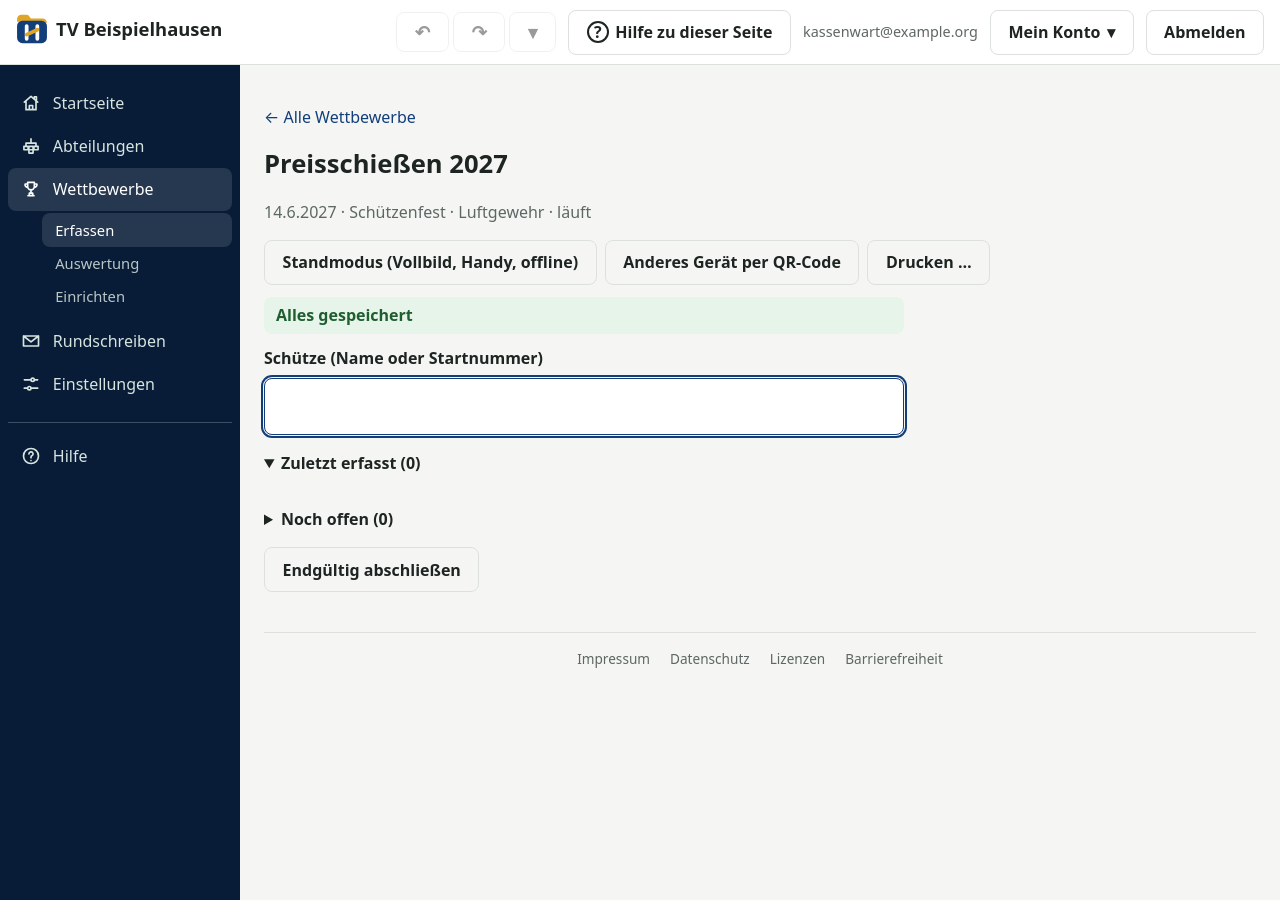
Scenario: Wettbewerbe erfassen › schließt endgültig ab, wenn alles abgeglichen ist
This screenshot has width=1280, height=900.
What coordinates should you click on to do the following:
click the button "Endgültig abschließen"
I would click on:
 (372, 570)
Its box is x1=264 y1=547 x2=480 y2=592.
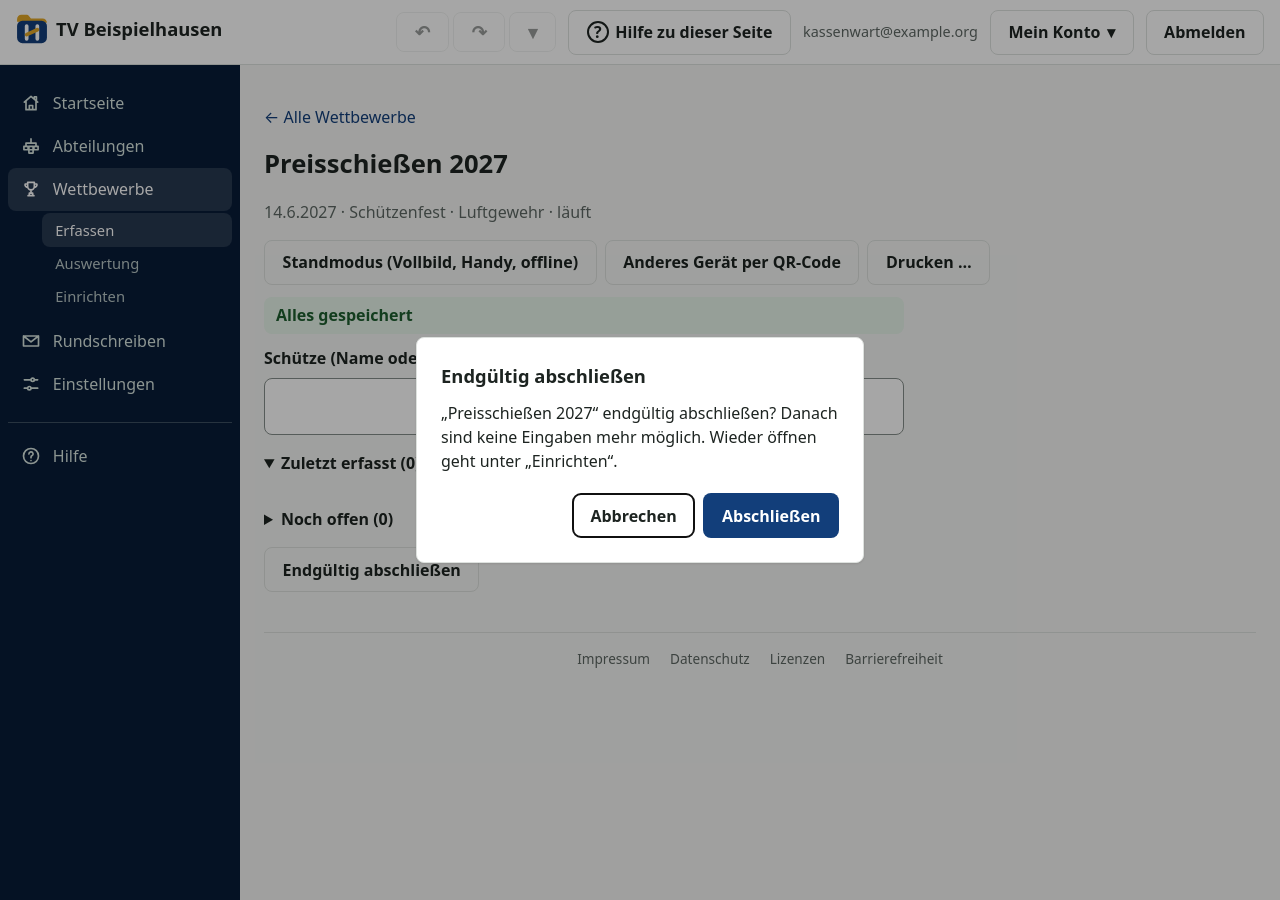
What coordinates should you click on to do the following:
click the button "Abschließen"
I would click on:
 (771, 516)
Its box is x1=703 y1=493 x2=839 y2=538.
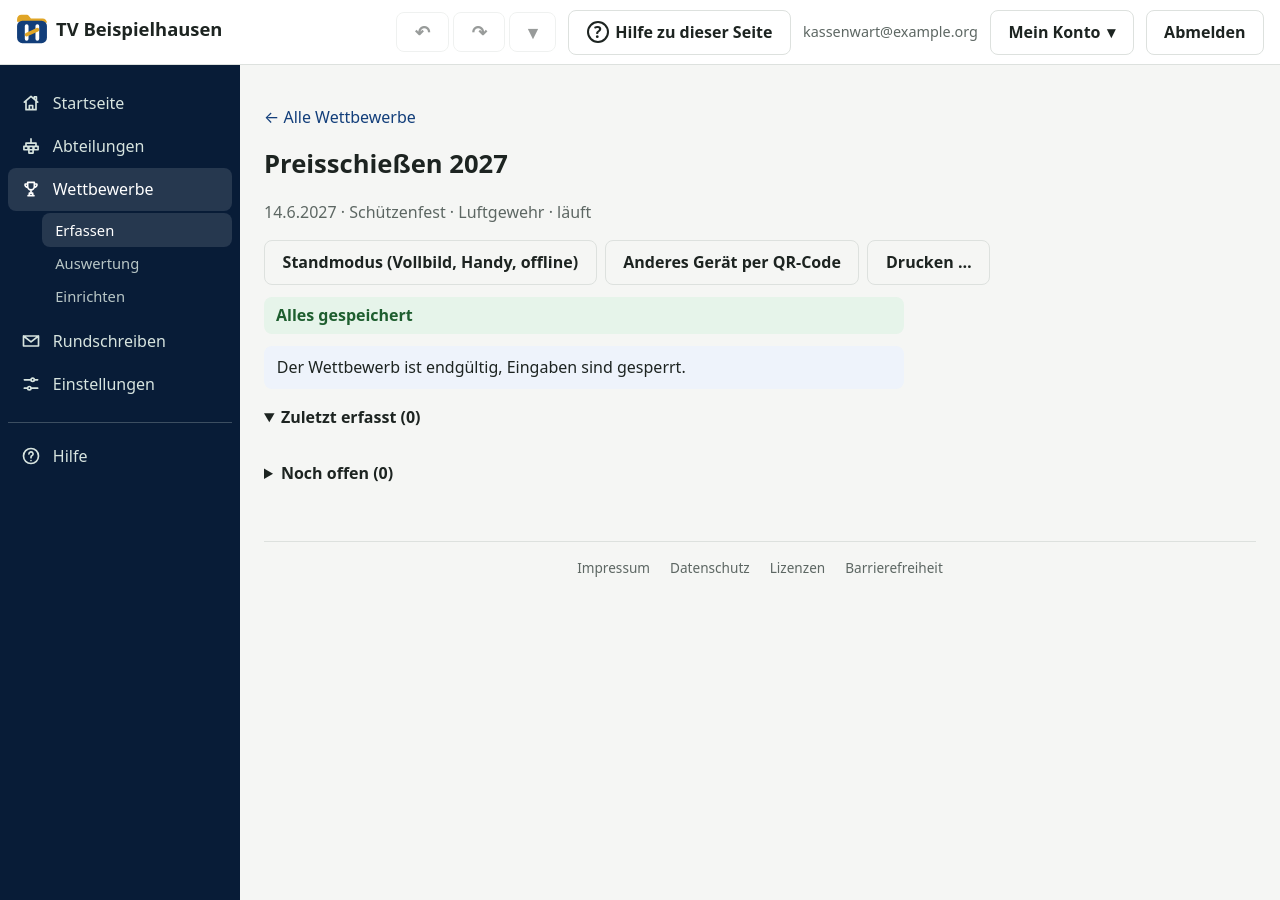
Now the text "Der Wettbewerb ist endgültig, Eingaben sind gesperrt." is shown, box x1=264 y1=346 x2=904 y2=389
